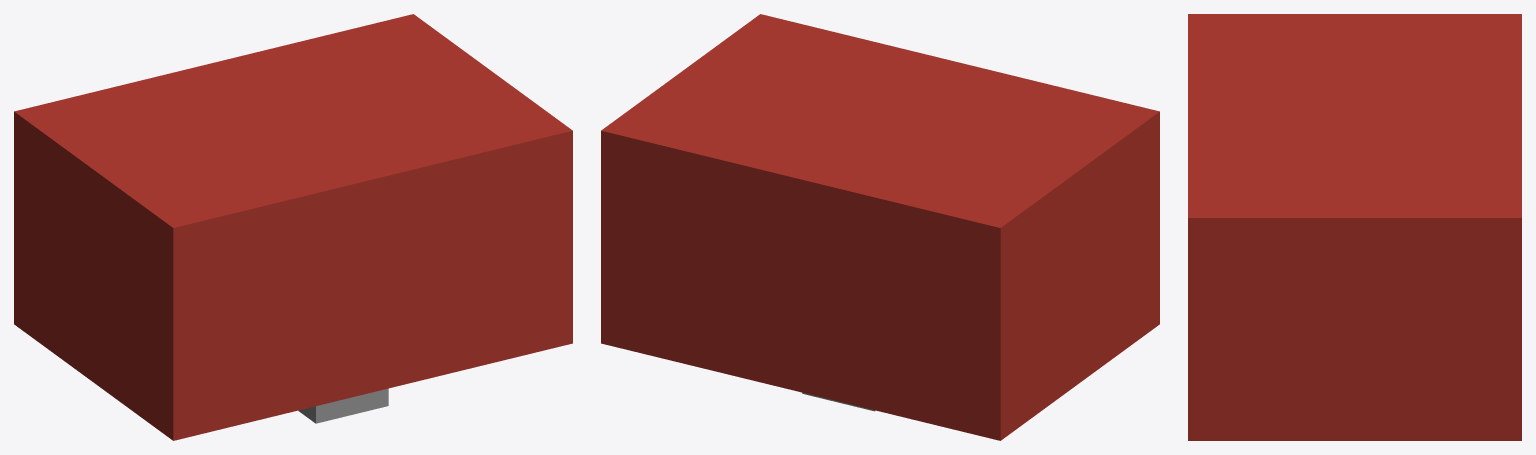
File: medkit.glb
3 views of the same model, side by side, from view 1: azimuth 30°, elevation 25°; view 2: azimuth 150°, elevation 25°; view 3: azimuth 270°, elevation 25° (orthographic). The views are drawn at different scales.
Parts seen in each view (by area): view 1: g0_case, g1_cross; view 2: g0_case; view 3: g0_case.
Boxes of the visible parts, x1,y1,x2,y2 form: g0_case: (14,14,572,440); g1_cross: (298,388,388,423); g0_case: (601,14,1159,440); g0_case: (1188,14,1521,440).
Bounding box in the file's own units: 0.55 × 0.33 × 0.38.
